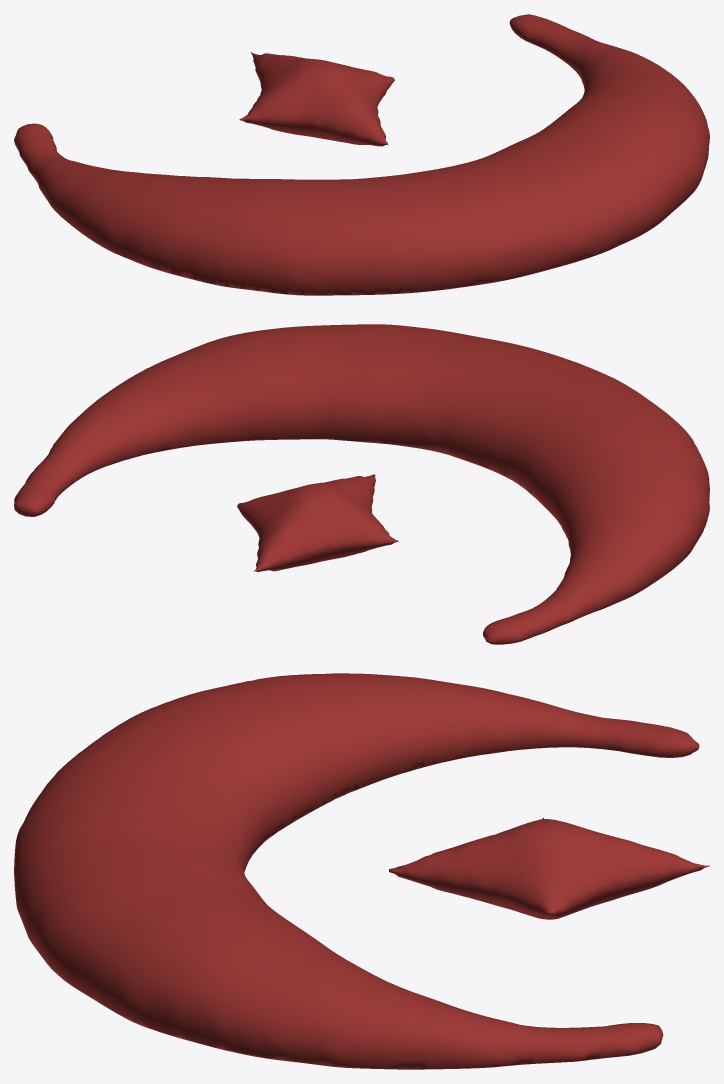
The model's file is decoration-mage.glb.
The picture shows the model from 3 angles, top to bottom: view 1: azimuth 30°, elevation 25°; view 2: azimuth 150°, elevation 25°; view 3: azimuth 270°, elevation 25°; orthographic projection. The views are drawn at different scales.
Parts seen in each view (by area): view 1: decoration_mage; view 2: decoration_mage; view 3: decoration_mage.
Boxes of the visible parts, bbox=[...] form: decoration_mage: bbox=[14, 14, 709, 295]; decoration_mage: bbox=[14, 324, 709, 644]; decoration_mage: bbox=[14, 673, 709, 1069].
Bounding box in the file's own units: 0.2185 × 0.0239 × 0.1799.
